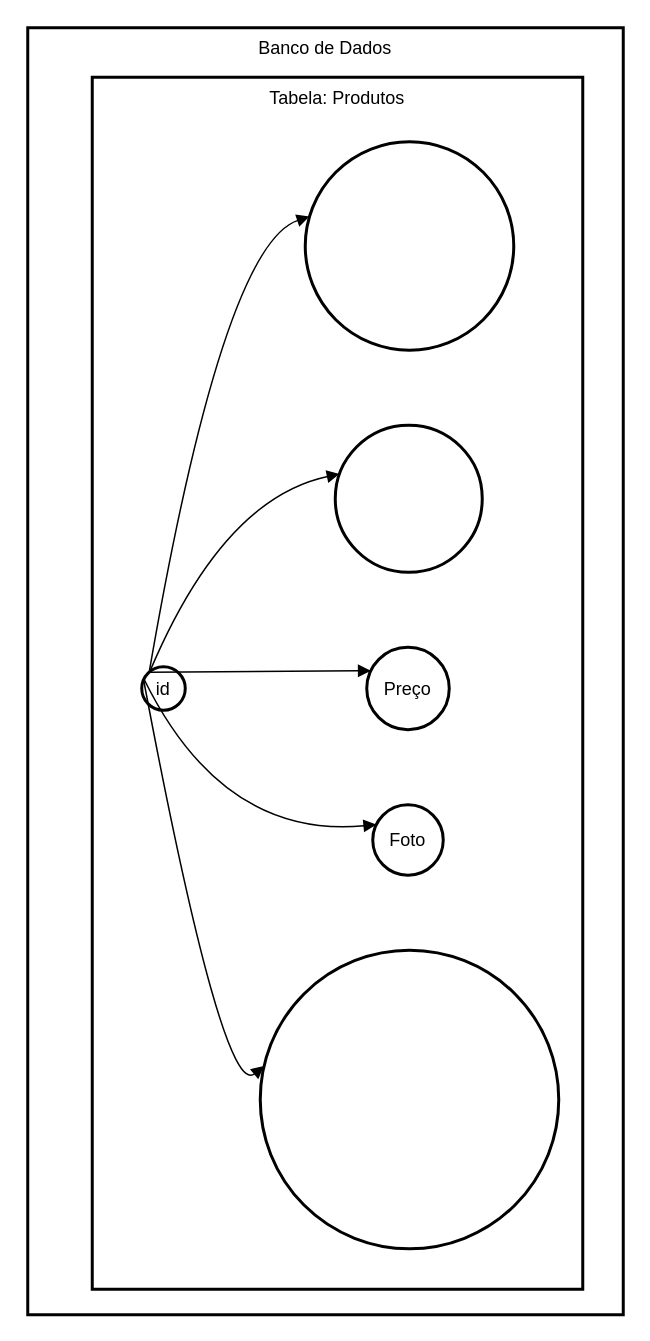
This 650x1341 diagram has some shape labels left out. Here are the shapes that lost their labels. From the top down, the box of each, then its label:
(303, 140, 514, 351): Nome do Produto
(333, 423, 483, 573): Quantidade
(258, 948, 560, 1250): Valor Desconto Atacado %
